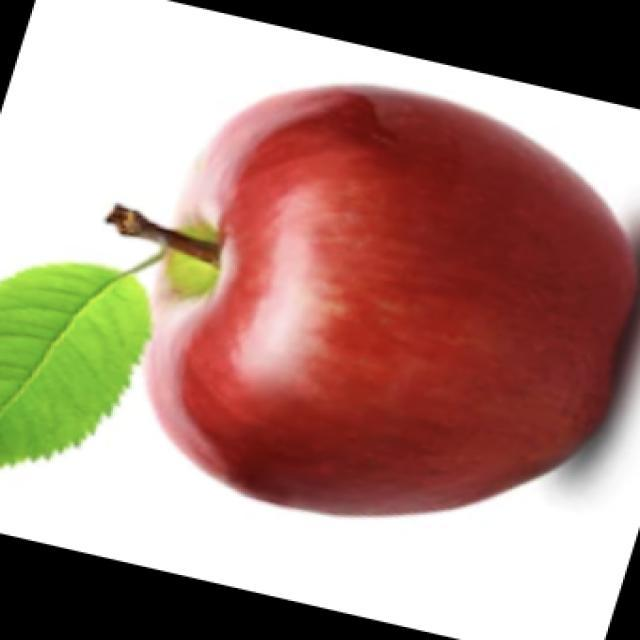Fresh Apple: (156, 85, 626, 512)
